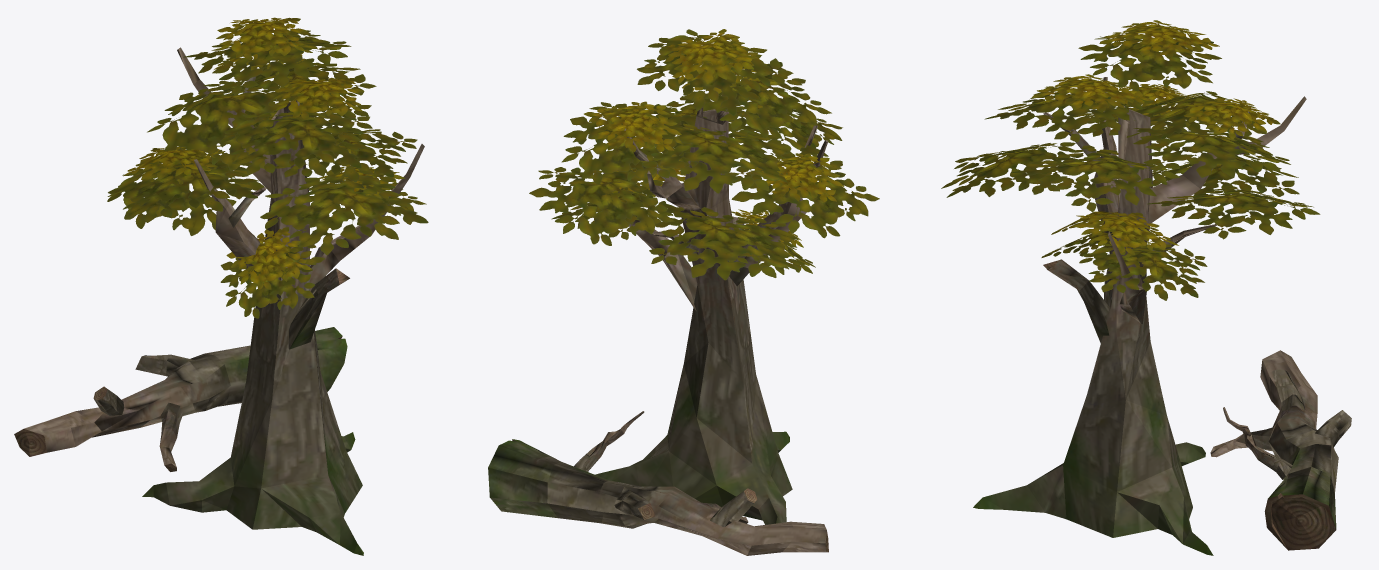
Rendered from FB4_shuzi01.FBX.
3 views of the same model, side by side, from view 1: azimuth 30°, elevation 25°; view 2: azimuth 150°, elevation 25°; view 3: azimuth 270°, elevation 25° (orthographic). The views are drawn at different scales.
Parts seen in each view (by area): view 1: FB4_shuzi01_001, FB4_shuzi01_002, FB4_shuzi01_003; view 2: FB4_shuzi01_001, FB4_shuzi01_002, FB4_shuzi01_003; view 3: FB4_shuzi01_001, FB4_shuzi01_002, FB4_shuzi01_003.
Part boxes in pixels (x1,y1,x2,y2): FB4_shuzi01_001: [107, 17, 428, 318]; FB4_shuzi01_002: [142, 47, 424, 555]; FB4_shuzi01_003: [14, 327, 347, 471]; FB4_shuzi01_001: [529, 29, 879, 280]; FB4_shuzi01_002: [595, 107, 828, 524]; FB4_shuzi01_003: [488, 411, 828, 555]; FB4_shuzi01_001: [941, 20, 1320, 300]; FB4_shuzi01_002: [973, 77, 1306, 555]; FB4_shuzi01_003: [1210, 350, 1351, 550].
Bounding box in the file's own units: 679 × 847 × 709.
